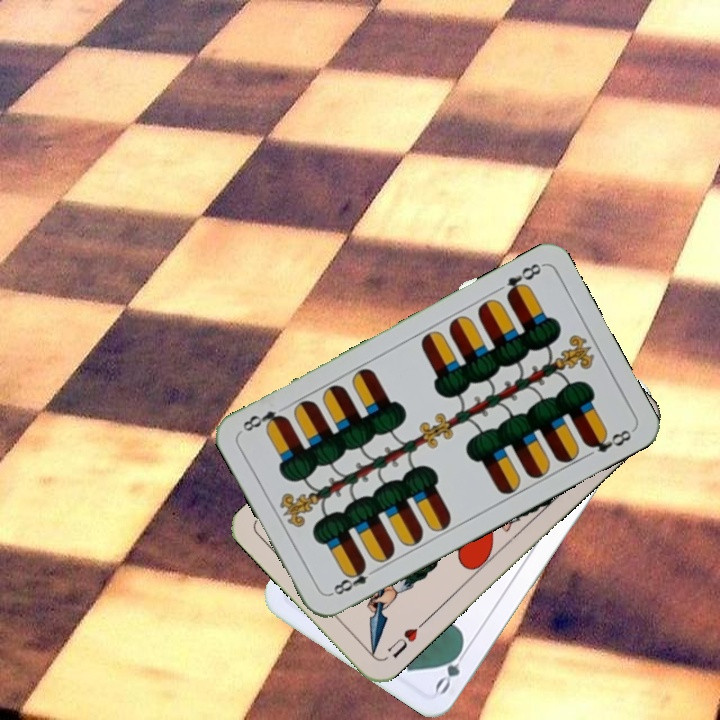E8: (326, 560, 381, 598), (502, 259, 545, 301)
GO: (431, 640, 472, 697)
HU: (382, 617, 428, 661)
